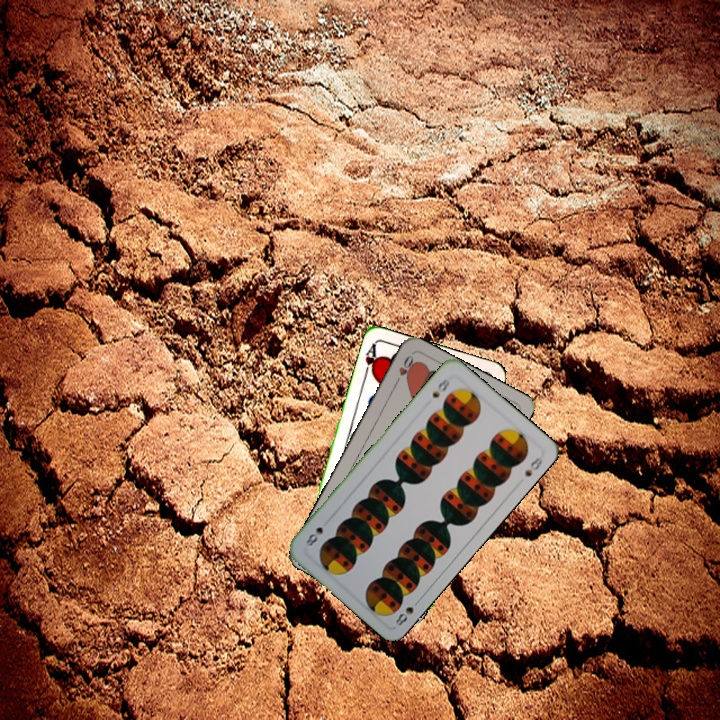HA: (360, 340, 382, 380)
HO: (390, 351, 417, 388)
S8: (391, 595, 423, 628), (428, 372, 452, 400)
